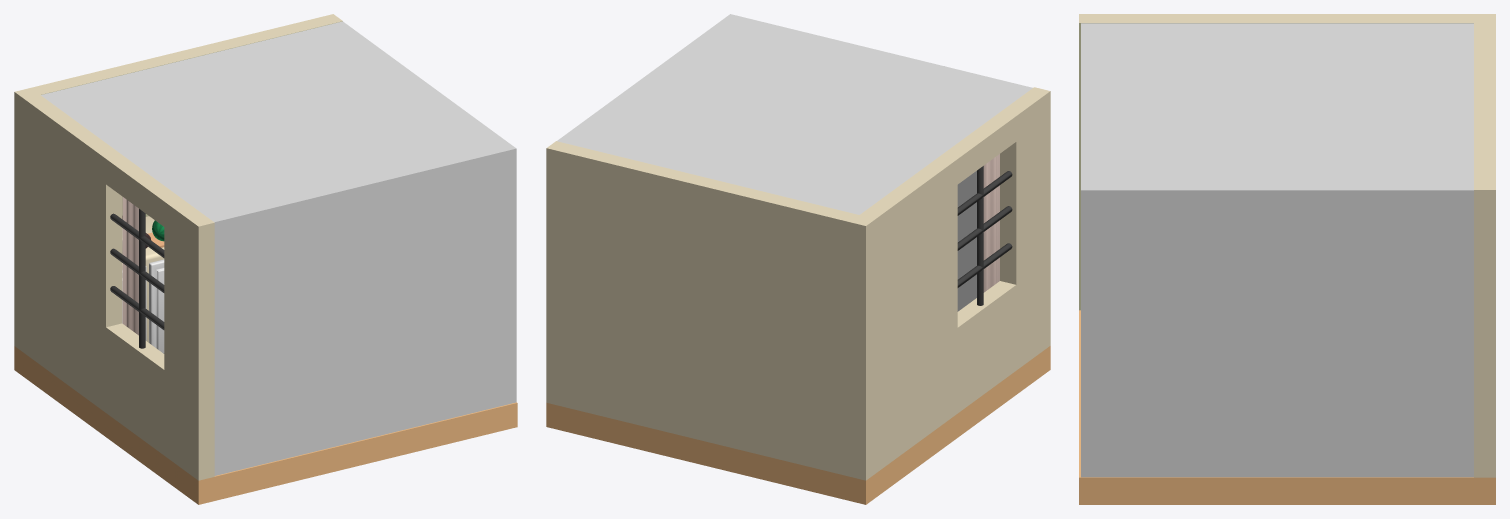
The model's file is Kitchen.fbx.
3 views of the same model, side by side, from view 1: azimuth 30°, elevation 25°; view 2: azimuth 150°, elevation 25°; view 3: azimuth 270°, elevation 25° (orthographic). The views are drawn at different scales.
Visible parts, largest first — view 1: Cube.018, Cube.001, window, cupboard; view 2: Cube.001, Cube.018, window; view 3: Cube.018, Cube.001.
Boxes of the visible parts, box(x1,y1,x2,y2) form: Cube.018: box(41, 21, 516, 475); Cube.001: box(14, 14, 517, 504); window: box(110, 197, 164, 348); cupboard: box(122, 216, 164, 353); Cube.001: box(546, 87, 1050, 504); Cube.018: box(557, 14, 1032, 311); window: box(957, 154, 1012, 305); Cube.018: box(1081, 23, 1473, 477); Cube.001: box(1079, 14, 1495, 504).
Bounding box in the file's own units: 186 × 155 × 186.
